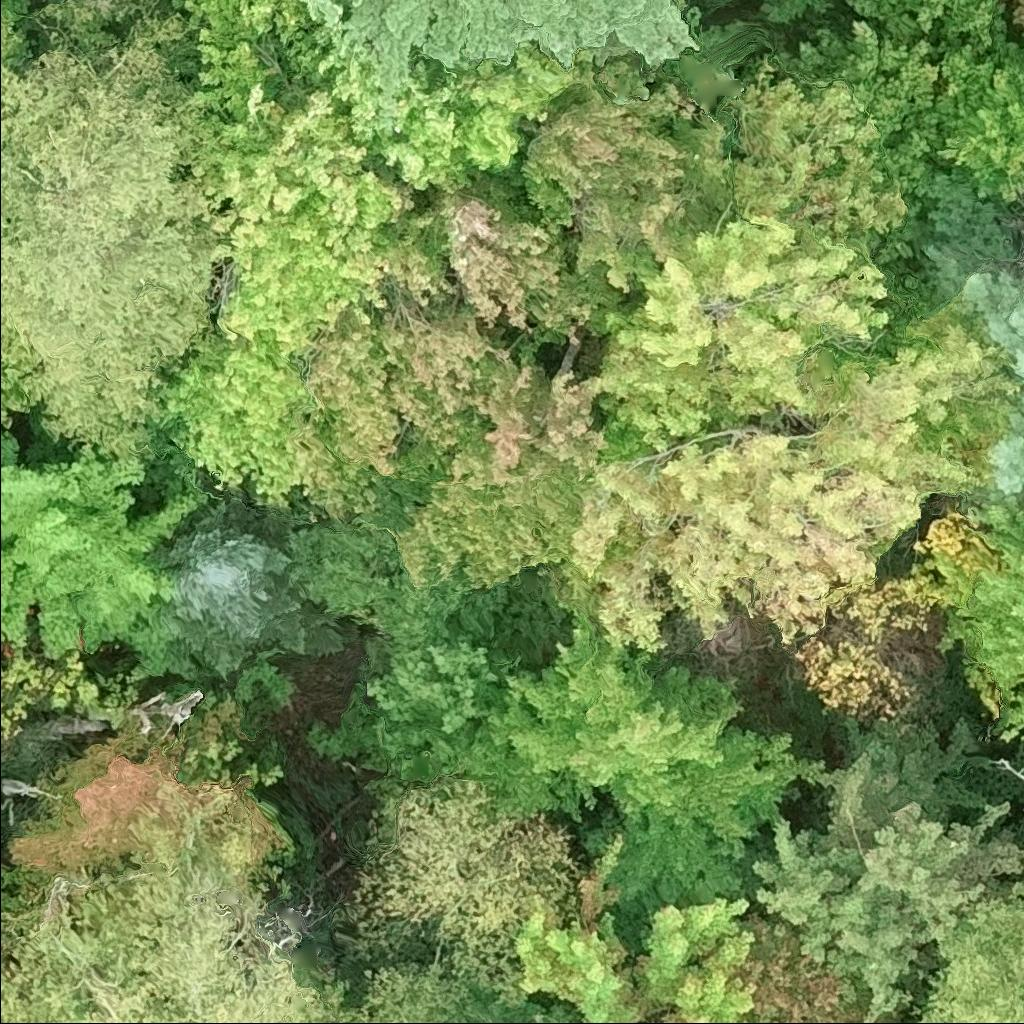crown: (559, 294, 1023, 654), (580, 54, 909, 455), (0, 0, 231, 453), (461, 575, 820, 841), (186, 36, 429, 361), (348, 769, 587, 1007), (285, 282, 515, 525), (393, 337, 612, 590), (0, 429, 207, 679), (800, 713, 1023, 945), (3, 726, 286, 906), (518, 81, 732, 302), (513, 835, 759, 1023), (369, 171, 629, 347), (147, 473, 360, 684), (776, 9, 946, 265), (298, 0, 699, 107), (74, 865, 341, 1023), (747, 815, 923, 1022), (375, 44, 595, 200), (305, 621, 503, 788), (170, 0, 392, 148), (147, 323, 321, 505), (734, 893, 915, 1023), (913, 171, 1023, 383), (0, 898, 175, 1023), (916, 3, 1023, 205), (947, 504, 1023, 745), (903, 877, 1023, 1023), (851, 0, 999, 52), (973, 390, 1023, 511), (34, 0, 128, 40), (0, 0, 40, 69), (0, 378, 32, 439), (655, 1007, 711, 1023), (160, 0, 183, 18), (1017, 840, 1023, 846), (1023, 865, 1023, 866)
